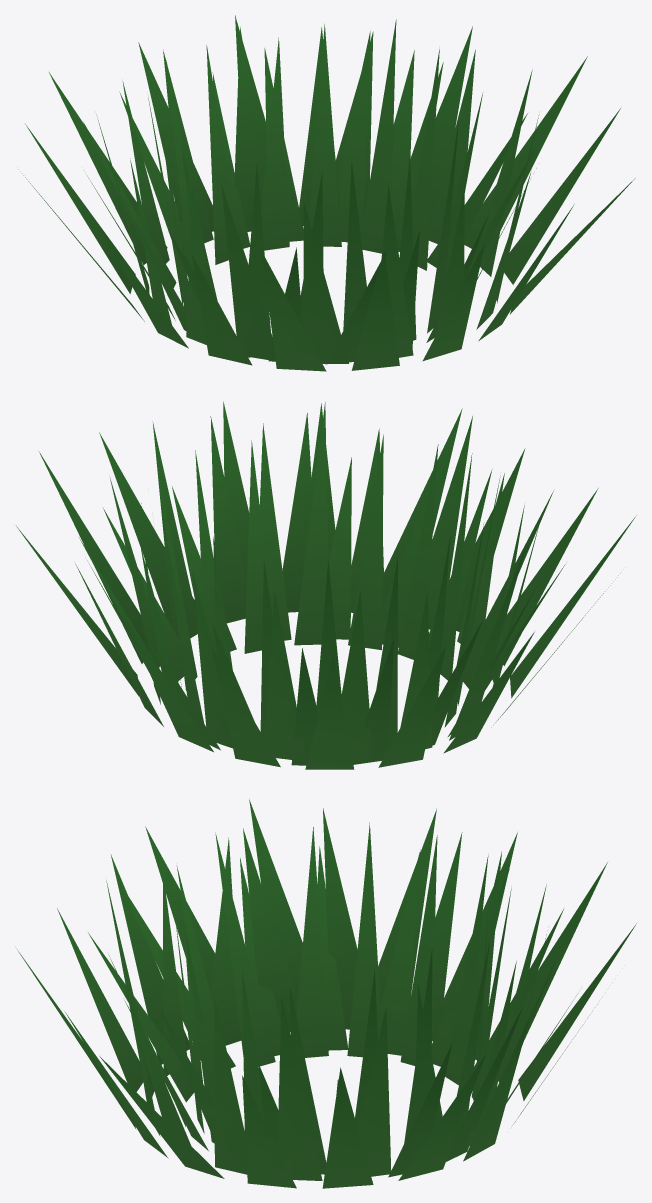
File: Grass.fbx
3 views of the same model, one above another, from view 1: azimuth 30°, elevation 25°; view 2: azimuth 150°, elevation 25°; view 3: azimuth 270°, elevation 25° (orthographic). The views are drawn at different scales.
Parts seen in each view (by area): view 1: Grass; view 2: Grass; view 3: Grass.
Part boxes in pixels (left/top/right/bottom): Grass: left=18, top=15, right=635, bottom=371; Grass: left=16, top=401, right=636, bottom=769; Grass: left=16, top=799, right=636, bottom=1188.
Bounding box in the file's own units: 4.57 × 1.81 × 4.38.
